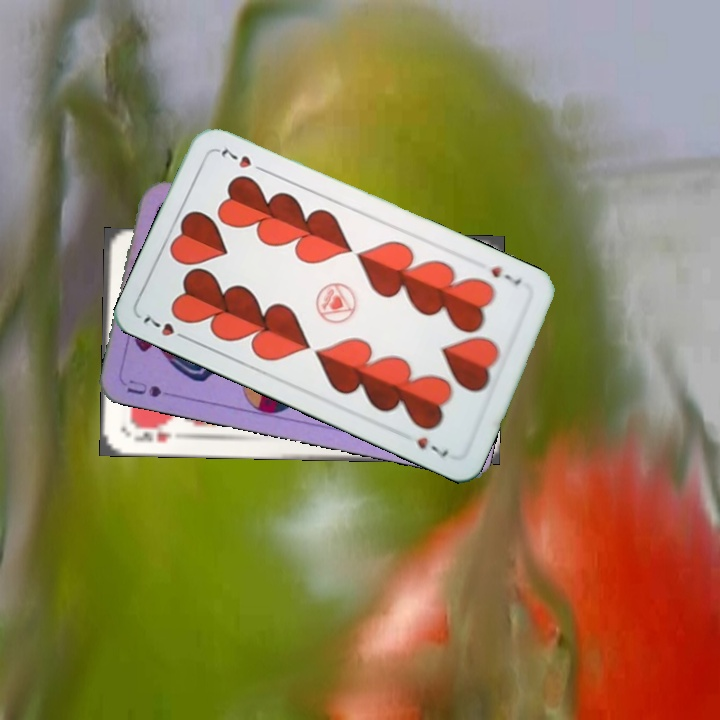H7: (138, 308, 193, 344), (486, 262, 524, 289)
HK: (129, 427, 175, 446)
SU: (122, 376, 182, 400)
